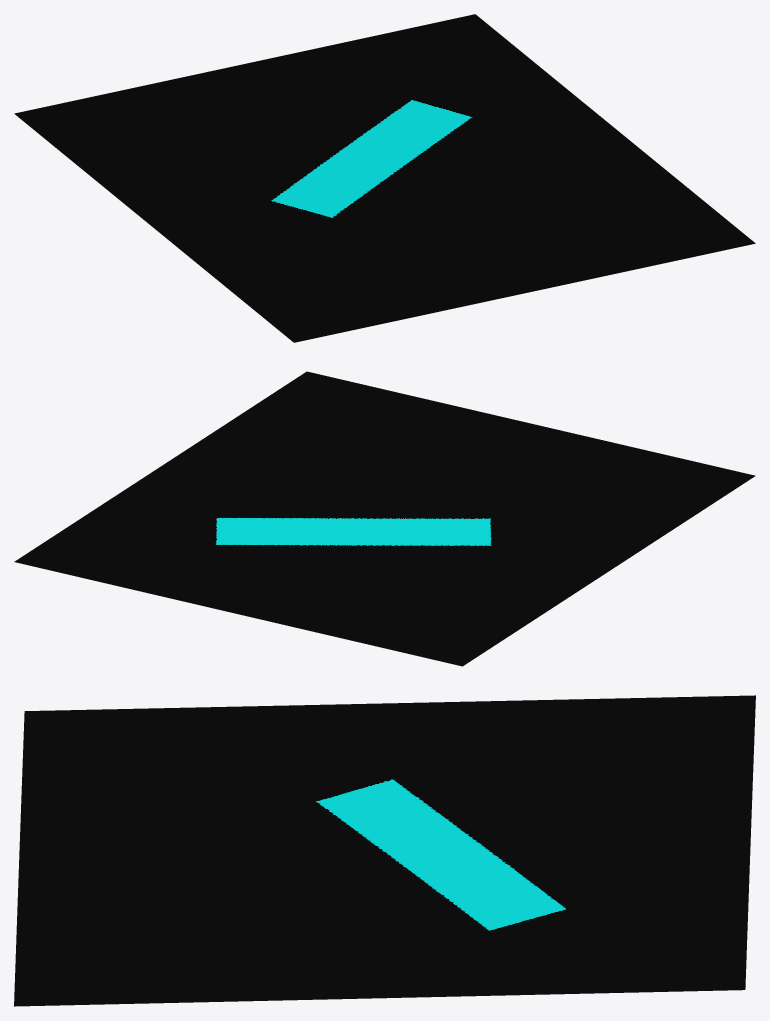
The model's file is KIND_20030327_054431_REF_0248-87607.png.dae.
3 views of the same model, one above another, from view 1: azimuth 30°, elevation 25°; view 2: azimuth 150°, elevation 25°; view 3: azimuth 270°, elevation 25° (orthographic). The views are drawn at different scales.
Parts seen in each view (by area): view 1: TIN; view 2: TIN; view 3: TIN.
Boxes of the visible parts, x1,y1,x2,y2 form: TIN: (14, 14, 755, 342); TIN: (14, 371, 755, 666); TIN: (14, 695, 755, 1006).
Bounding box in the file's own units: 7778 × 8463 × 410.
Materials: 1 (1 with a texture image).
